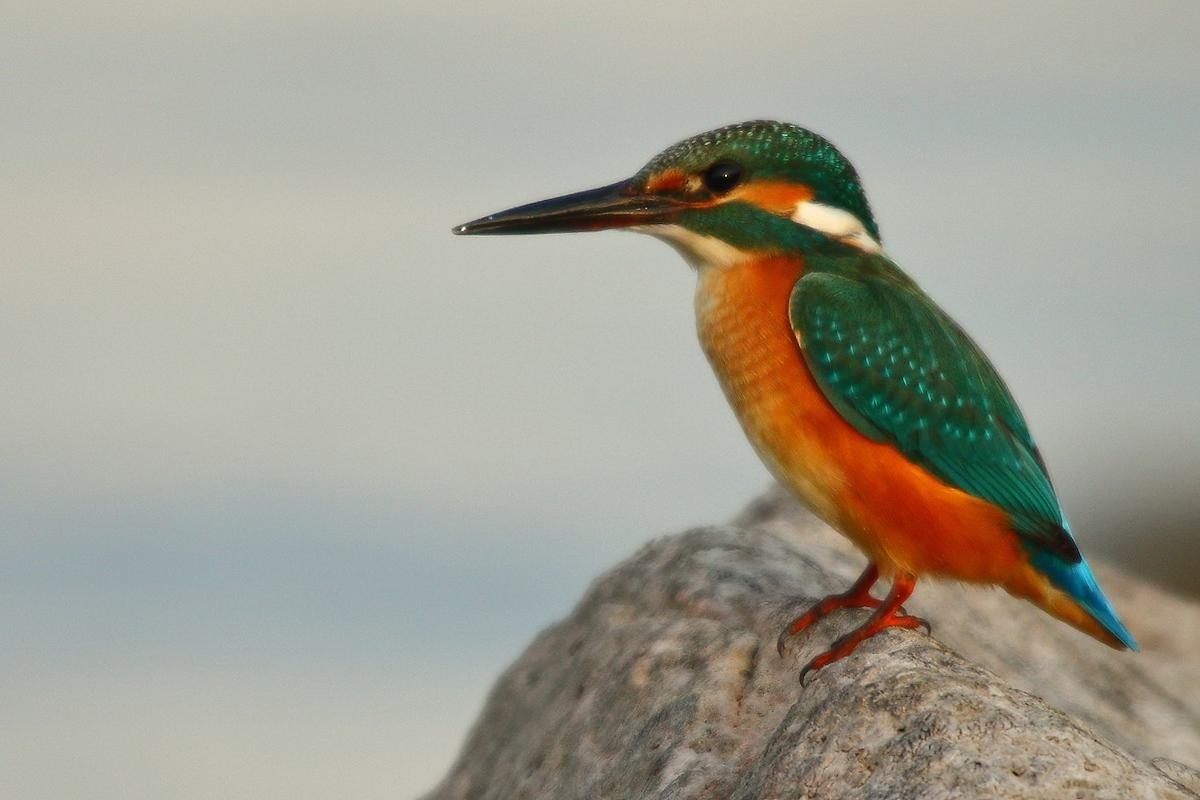kingfisher: (466, 109, 1123, 710)
